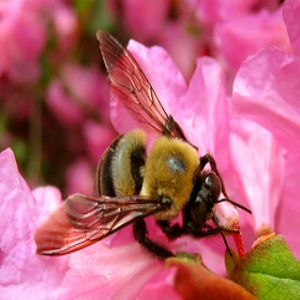bee: (28, 27, 255, 275)
